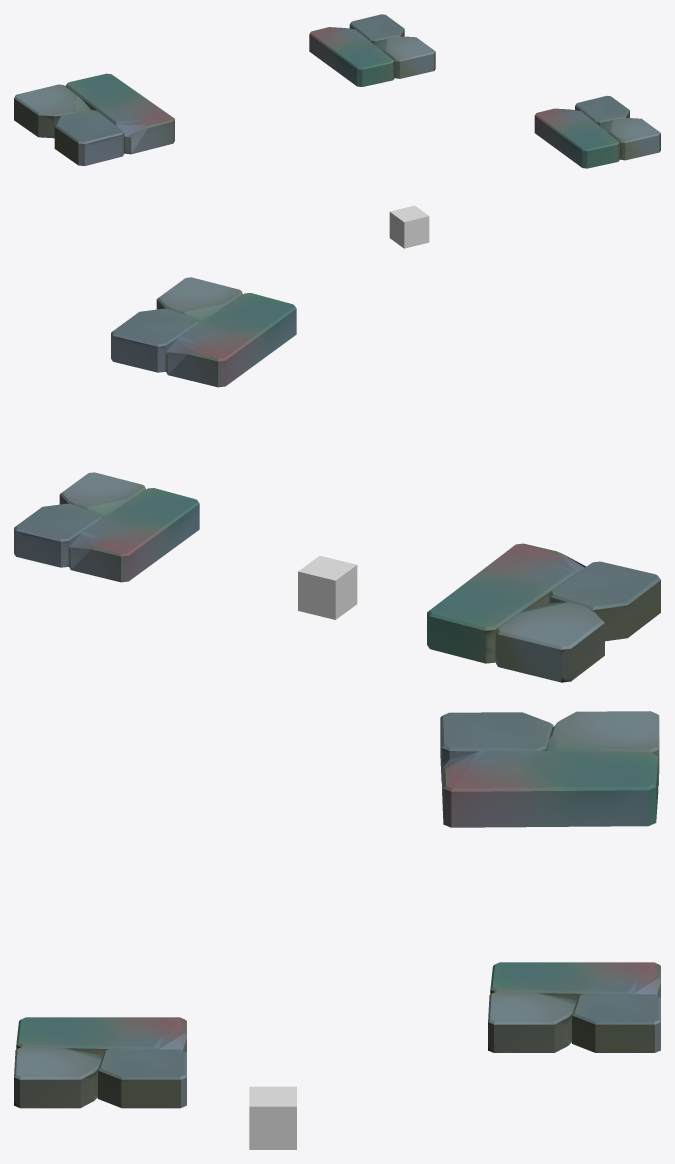
File: award-floor011.fbx
3 views of the same model, one above another, from view 1: azimuth 30°, elevation 25°; view 2: azimuth 150°, elevation 25°; view 3: azimuth 270°, elevation 25° (orthographic). The views are drawn at different scales.
Parts seen in each view (by area): view 1: Cube.073, Cube.072, Cube.070, award-floor011; view 2: Cube.073, Cube.070, Cube.072, award-floor011; view 3: Cube.073, Cube.070, Cube.072, award-floor011.
Boxes of the visible parts, bbox=[...] form: Cube.073: bbox=[14, 73, 174, 165]; Cube.072: bbox=[309, 14, 435, 86]; Cube.070: bbox=[534, 96, 660, 168]; award-floor011: bbox=[389, 205, 429, 248]; Cube.073: bbox=[427, 543, 660, 682]; Cube.070: bbox=[111, 277, 296, 387]; Cube.072: bbox=[14, 472, 199, 582]; award-floor011: bbox=[298, 556, 357, 619]; Cube.073: bbox=[440, 711, 659, 827]; Cube.070: bbox=[14, 1017, 186, 1108]; Cube.072: bbox=[488, 962, 660, 1052]; award-floor011: bbox=[249, 1086, 296, 1149].
Bounding box in the file's own units: 1074 × 287 × 813.
